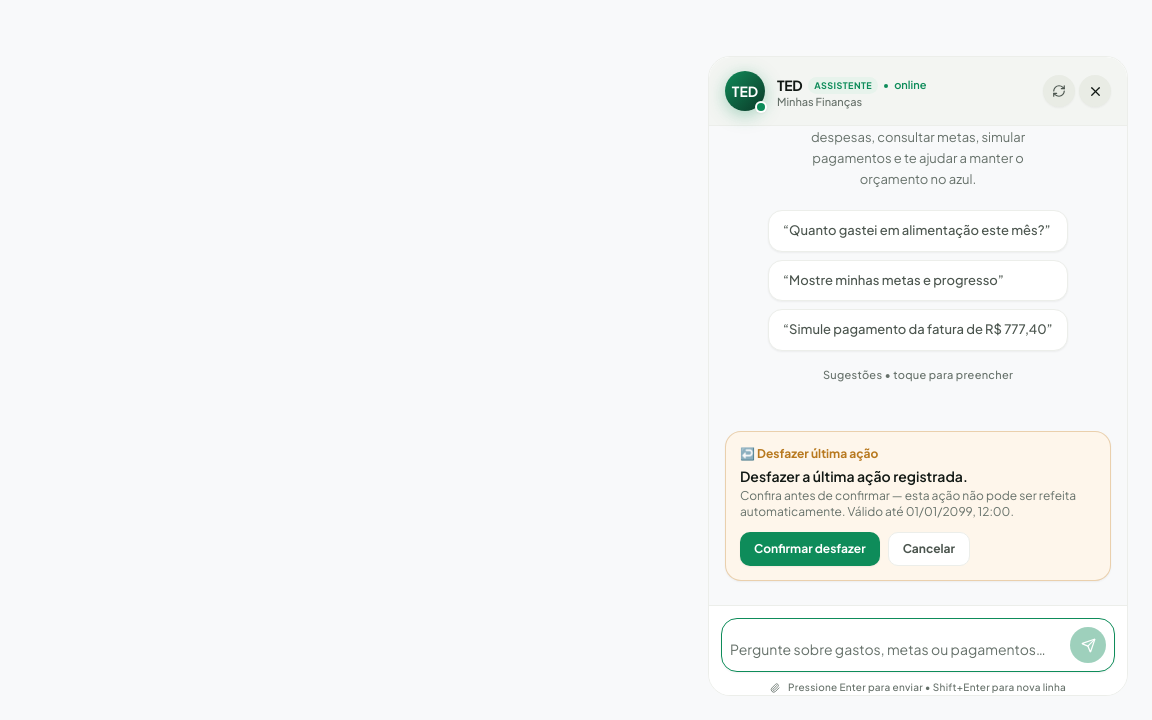
Test: TedChat undo terminal reconciliation (debt-undo-rehydration-terminal-fix) › expiry then reload drops the card with zero decisions
The width and height of the screenshot is (1152, 720).
(page scrolled)
Expected: the element with test id "ted-undo-card" is shown, [725, 431, 1111, 581]
Type "qual meu saldo?" into the text box with placeholder "Pergunte sobre gastos, metas ou pagamentos…" at (897, 649), box [730, 635, 1064, 663]
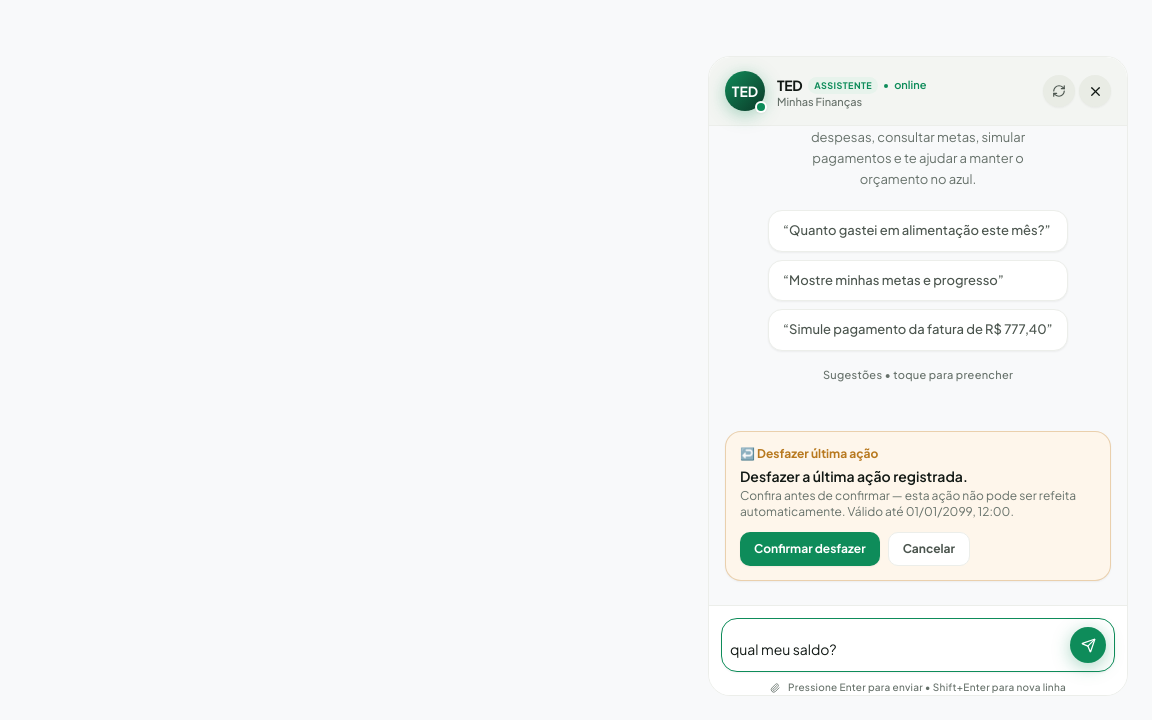
Click the button named "enviar mensagem" at (1088, 645), box [1070, 627, 1106, 663]
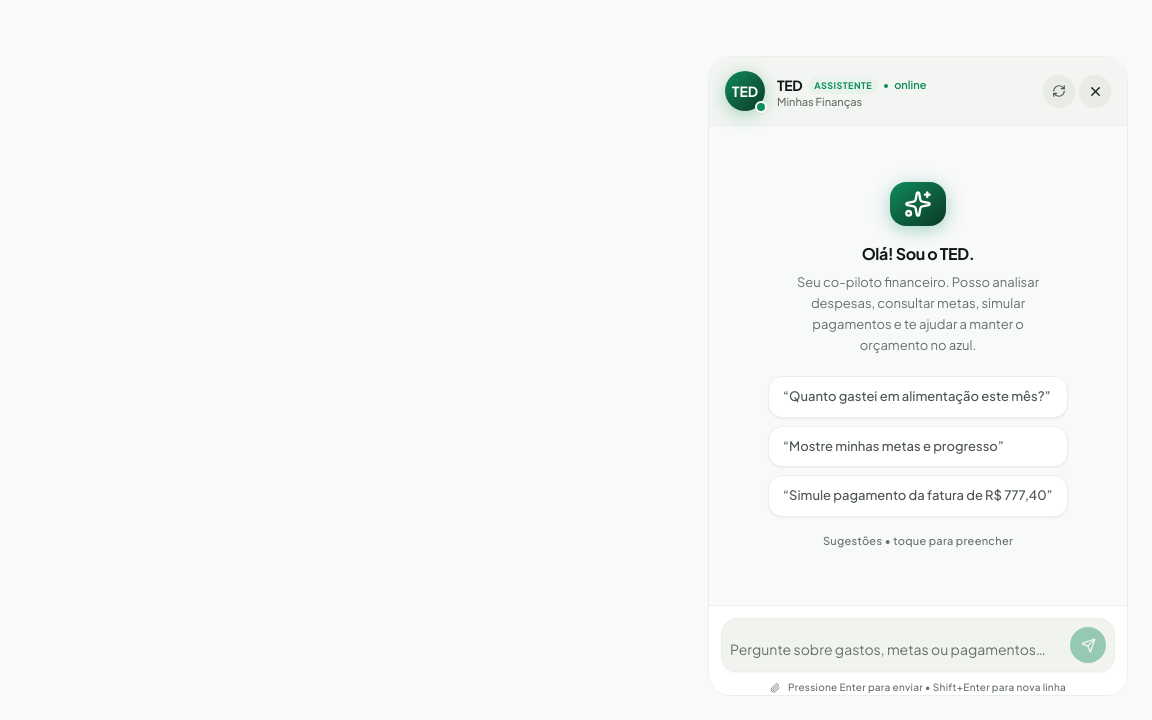
Now the element with test id "ted-undo-card" is gone
